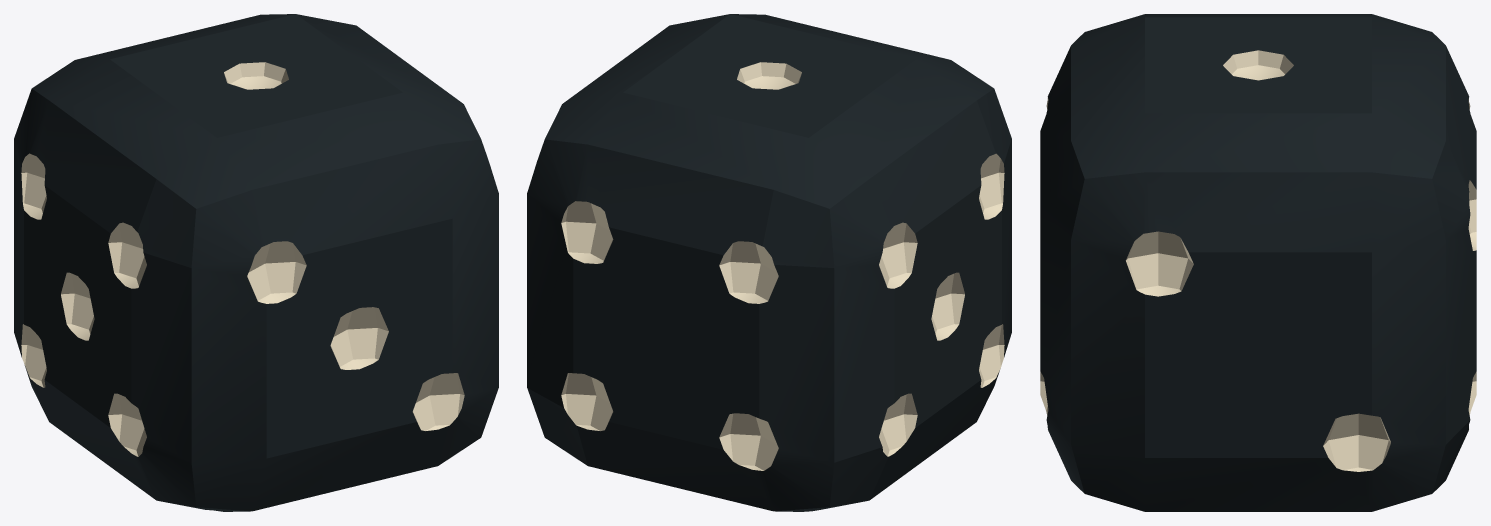
File: mirror_d6.glb
3 views of the same model, side by side, from view 1: azimuth 30°, elevation 25°; view 2: azimuth 150°, elevation 25°; view 3: azimuth 270°, elevation 25° (orthographic). The views are drawn at different scales.
Visible parts, largest first — view 1: MirrorD6; view 2: MirrorD6; view 3: MirrorD6.
Boxes of the visible parts, <box> form: MirrorD6: <box>14,14,498,511</box>; MirrorD6: <box>527,14,1011,511</box>; MirrorD6: <box>1040,14,1476,511</box>.
Bounding box in the file's own units: 0.08 × 0.08 × 0.08.
